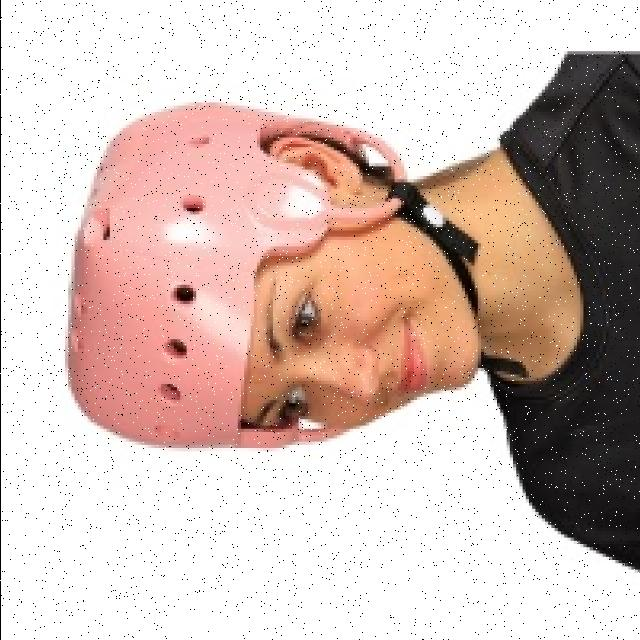Helmet: (69, 104, 402, 448)
